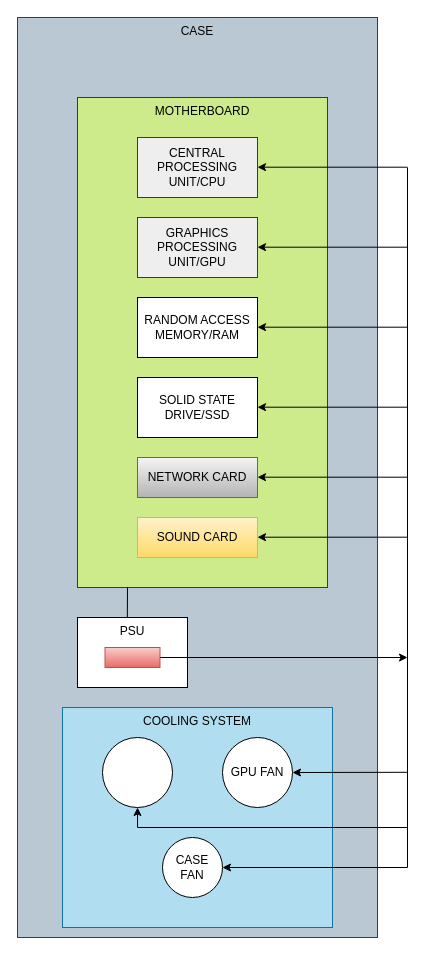
Image size: 433x955. Some labels were removed from this diagram. The shapes that lost their labels are listed below. From the top down, each one's centre as x and y in pixels, then its label:
At pixel 132 657: "POWER".
At pixel 137 772: "CPU FAN".
